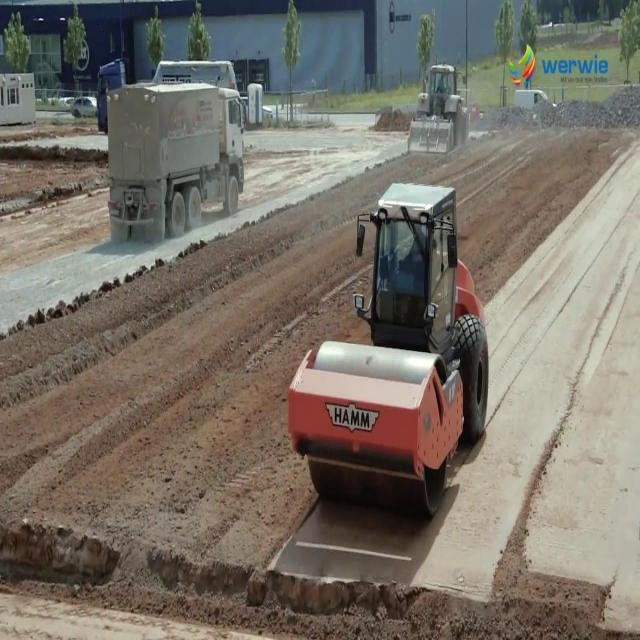Dump Truck: (104, 51, 250, 238)
Loader: (406, 62, 470, 159)
Roller: (292, 182, 490, 502)
